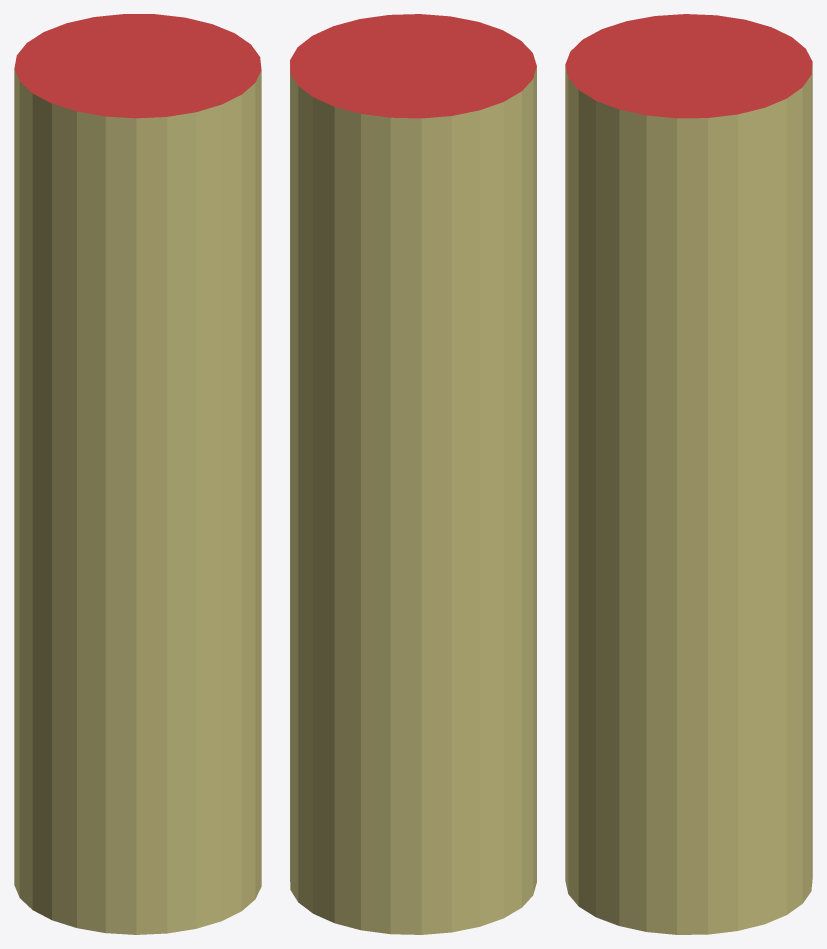
The picture shows the model from 3 angles, left to right: view 1: azimuth 30°, elevation 25°; view 2: azimuth 150°, elevation 25°; view 3: azimuth 270°, elevation 25°; orthographic projection.
Bounding box in the file's own units: 3.88 × 3.88 × 14.14.
